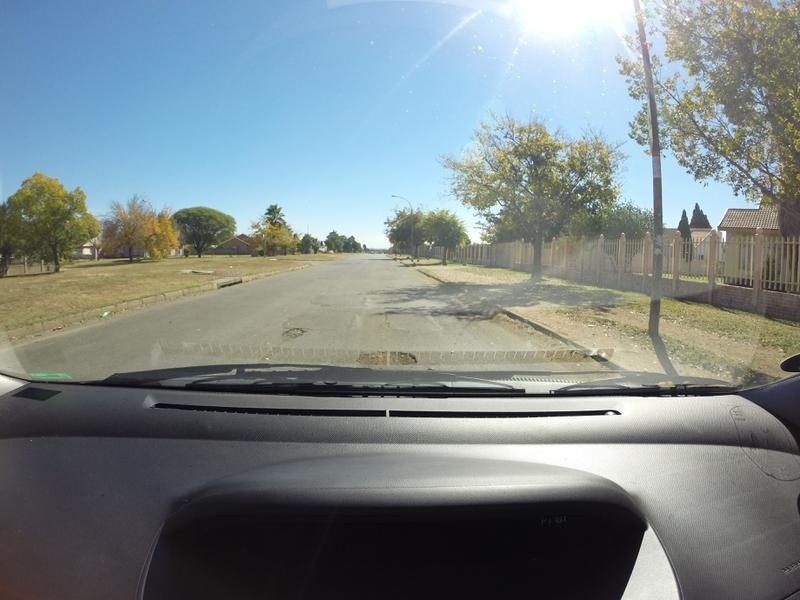pothole: (336, 339, 424, 364), (276, 326, 308, 340)
